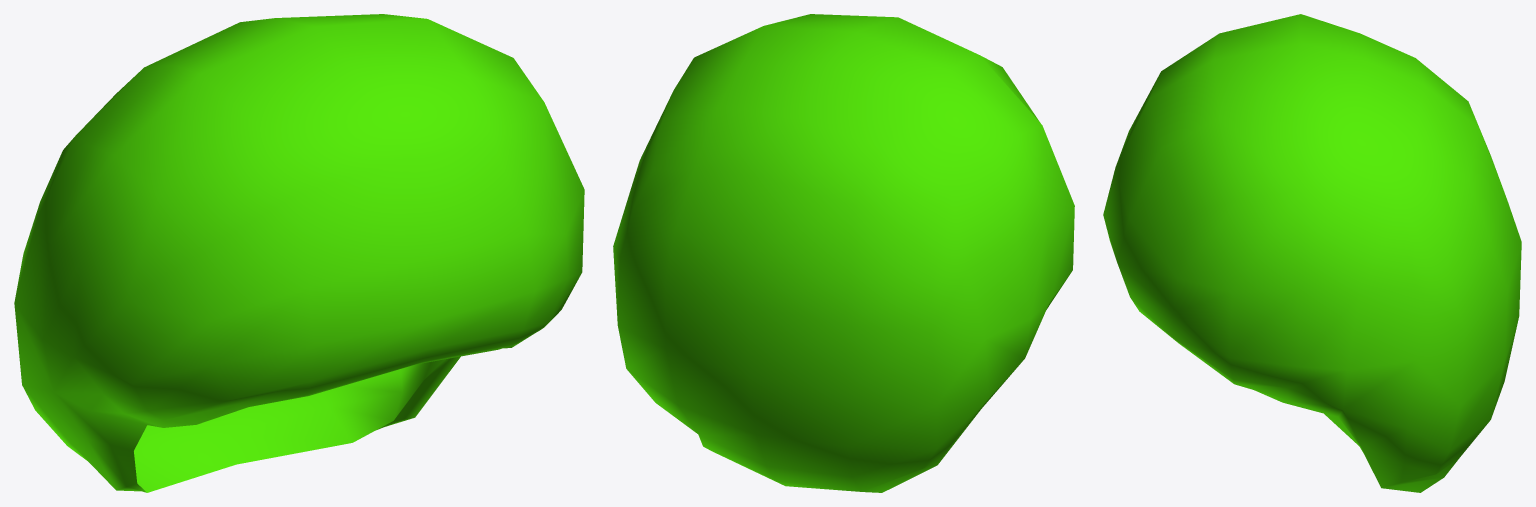
File: afro.fbx
3 renders of one model, left to right at view 1: azimuth 30°, elevation 25°; view 2: azimuth 150°, elevation 25°; view 3: azimuth 270°, elevation 25°, orthographic. The views are drawn at different scales.
Parts seen in each view (by area): view 1: pCube14; view 2: pCube14; view 3: pCube14.
Part boxes in pixels (<box>): pCube14: <box>14,14,584,492</box>; pCube14: <box>613,14,1074,492</box>; pCube14: <box>1103,14,1521,492</box>.
Bounding box in the file's own units: 743 × 725 × 666.
